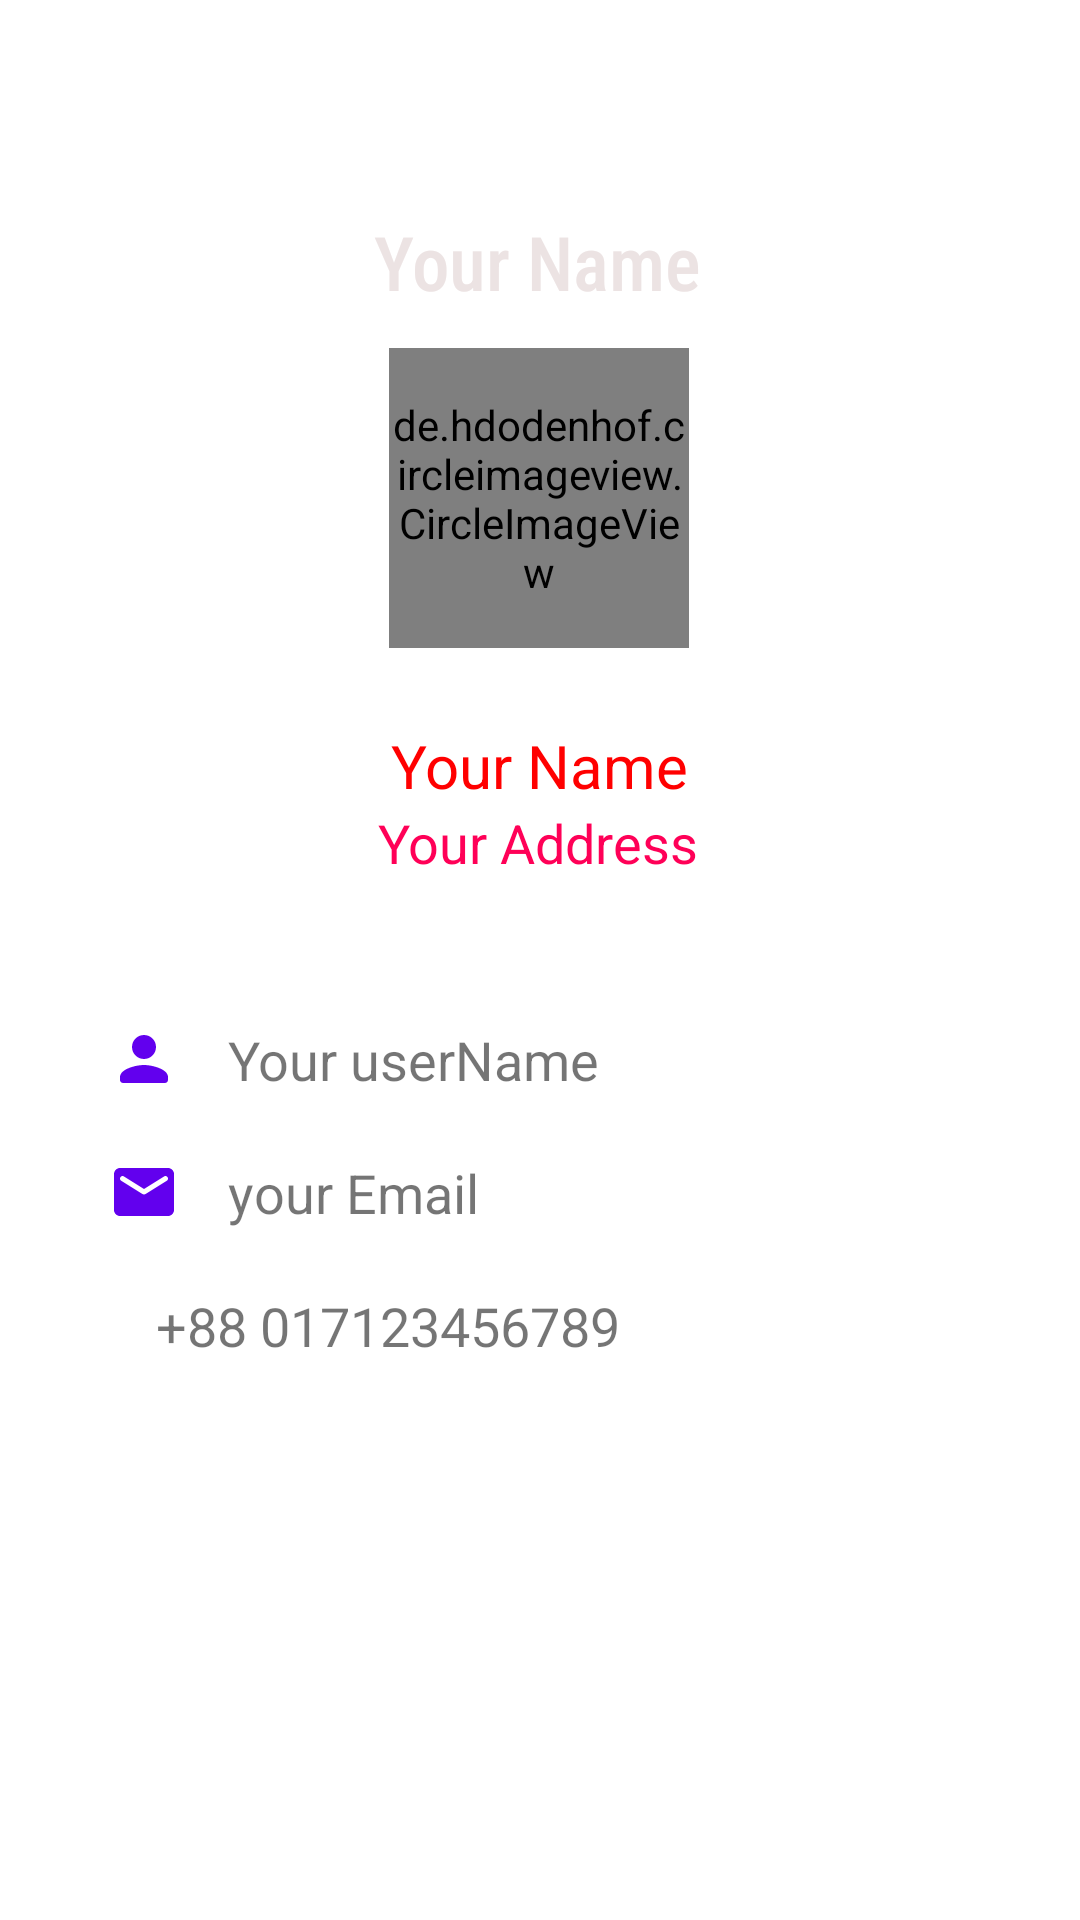

Where to tap for icons on this 1080 x 1920 app screen, as (x=x, y=y):
person: (x=144, y=1059)
